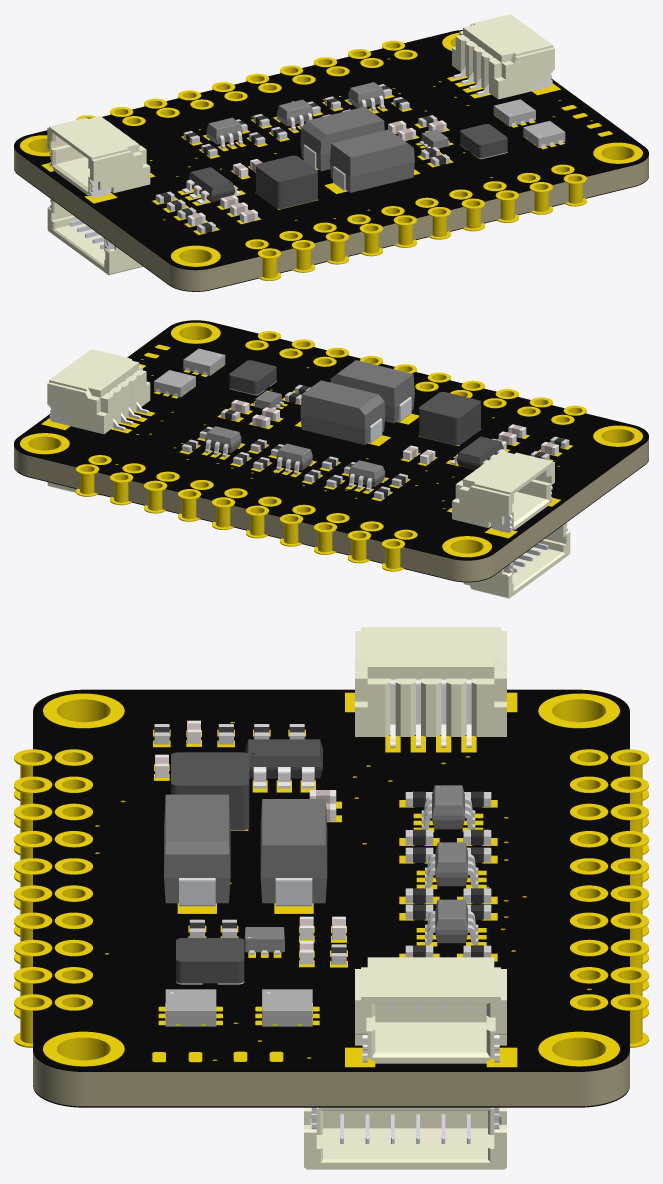
Rendered from unit_3d_v1_0_0_ue0106_I2C_qwiic_converter_module.glb.
3 renders of one model, top to bottom at view 1: azimuth 30°, elevation 25°; view 2: azimuth 150°, elevation 25°; view 3: azimuth 270°, elevation 25°, orthographic. The views are drawn at different scales.
Parts seen in each view (by area): view 1: Node19, Node11, Node8, Node5, Node7, Node20, Node22, Node14, Node25, Node6, Node16, Node23 (+6 smaller); view 2: Node19, Node11, Node8, Node5, Node7, Node20, Node22, Node14, Node25, Node16, Node6, Node23 (+7 smaller); view 3: Node19, Node11, Node5, Node8, Node7, Node20, Node22, Node14, Node6, Node25, Node16, Node26 (+6 smaller).
Part boxes in pixels (x1,y1,x2,y2): Node19: [14, 30, 648, 291]; Node11: [47, 14, 554, 275]; Node8: [14, 148, 648, 291]; Node5: [20, 32, 642, 266]; Node7: [28, 38, 634, 278]; Node20: [300, 106, 414, 192]; Node22: [188, 124, 507, 208]; Node14: [206, 82, 448, 148]; Node25: [155, 84, 449, 233]; Node6: [150, 76, 612, 234]; Node16: [493, 99, 565, 148]; Node23: [182, 120, 446, 226]; Node19: [14, 320, 648, 582]; Node11: [47, 349, 570, 598]; Node8: [14, 438, 648, 581]; Node5: [20, 322, 642, 557]; Node7: [28, 326, 634, 568]; Node20: [300, 360, 414, 444]; Node22: [229, 360, 503, 470]; Node14: [205, 390, 384, 486]; Node25: [182, 384, 569, 499]; Node16: [154, 348, 225, 397]; Node6: [111, 344, 572, 501]; Node23: [231, 399, 558, 464]; Node19: [33, 689, 629, 1107]; Node11: [304, 627, 506, 1169]; Node5: [14, 692, 648, 1067]; Node8: [33, 1051, 629, 1106]; Node7: [14, 700, 648, 1060]; Node20: [164, 794, 327, 903]; Node22: [171, 739, 322, 983]; Node14: [244, 785, 467, 952]; Node6: [152, 729, 497, 1062]; Node25: [154, 724, 491, 964]; Node16: [165, 989, 312, 1026]; Node26: [154, 727, 483, 957].
Bounding box in the file's own units: 35.56 × 7.52 × 25.05.
